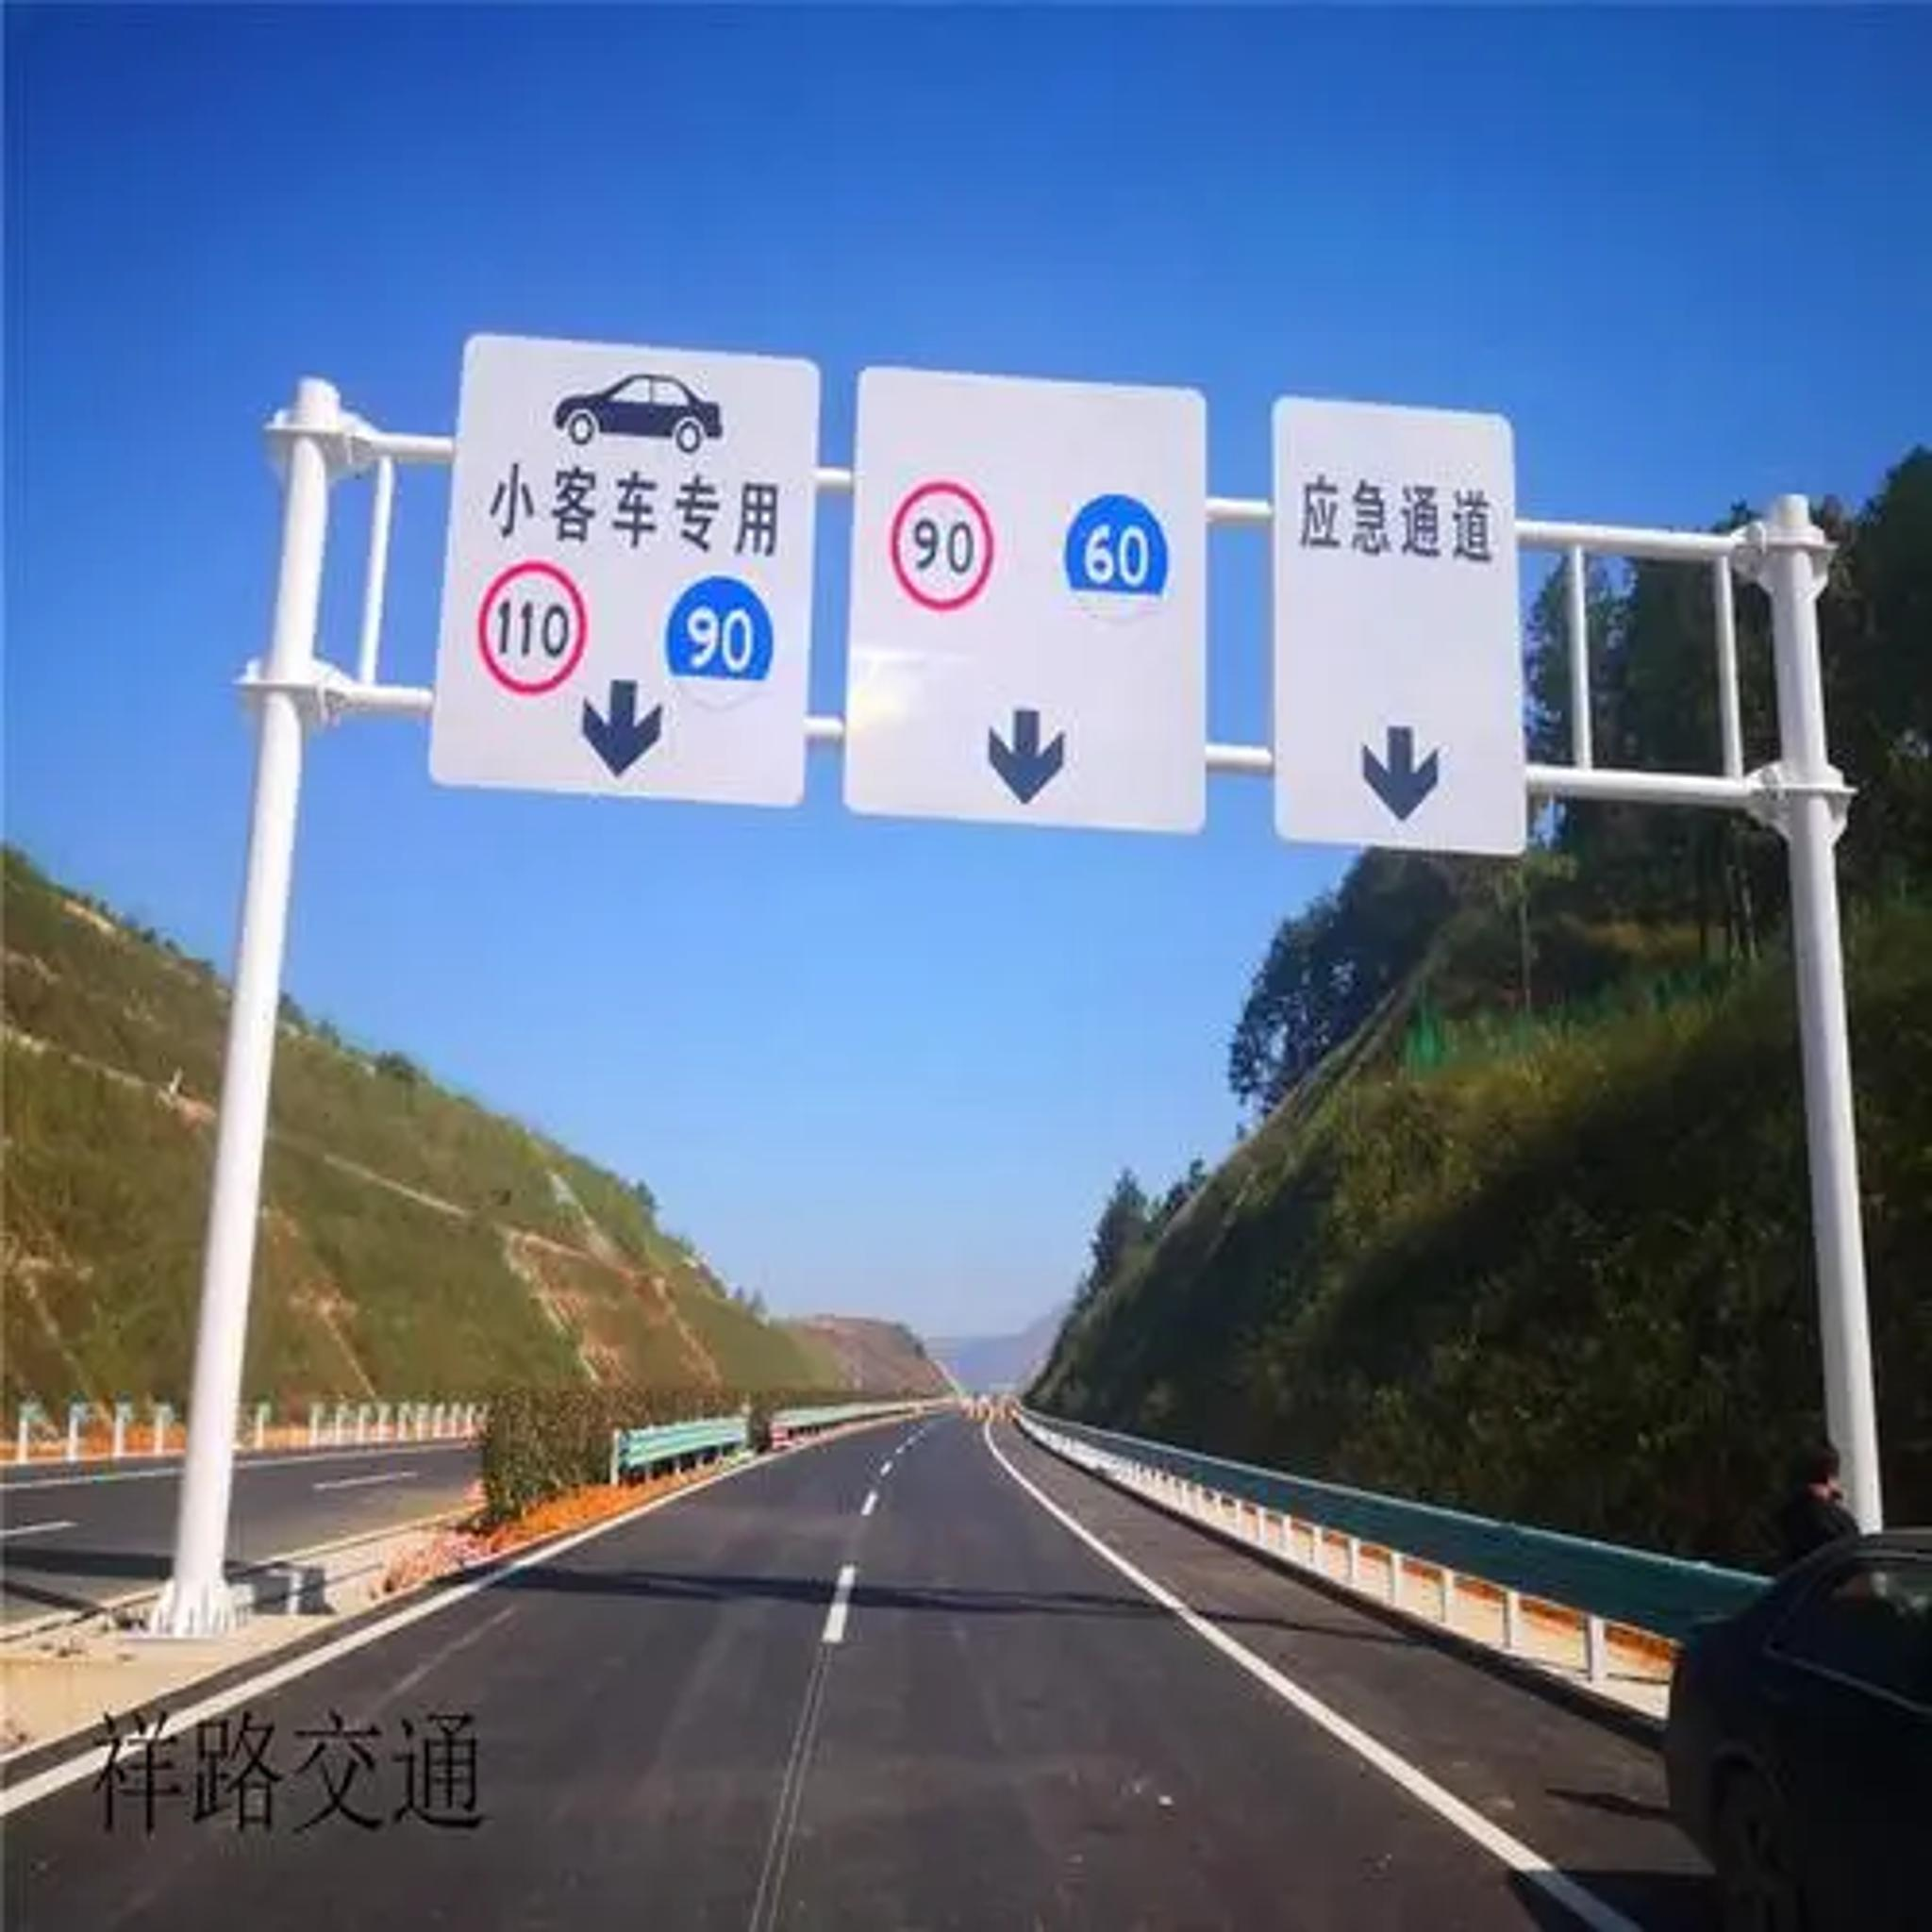il60: (663, 575, 777, 711), (1069, 494, 1168, 621)
pl110: (474, 561, 584, 692)
pl90: (892, 487, 991, 612)
